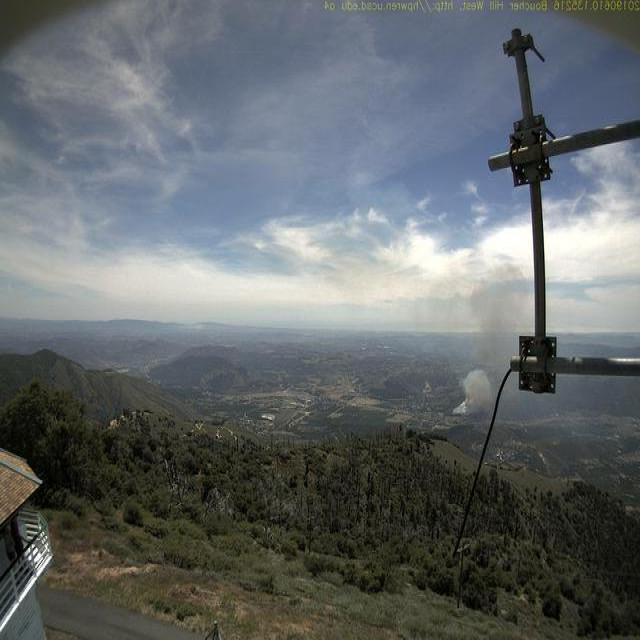Smoke: (447, 255, 532, 422)
